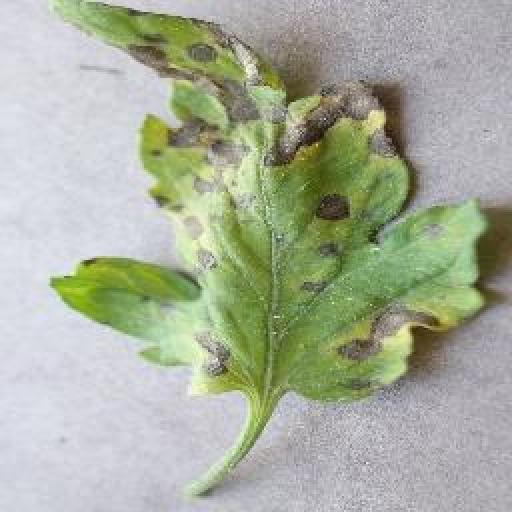Early Blight: (43, 0, 492, 411)
